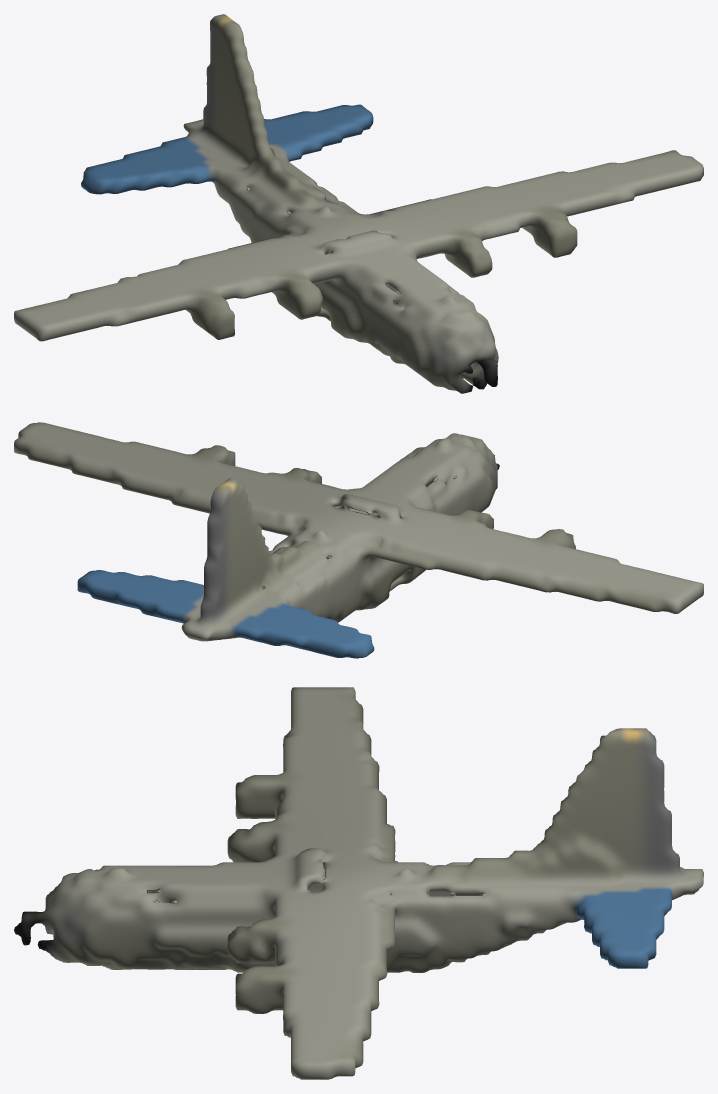
Rendered from paradrop_plane.glb.
The picture shows the model from 3 angles, top to bottom: view 1: azimuth 30°, elevation 25°; view 2: azimuth 150°, elevation 25°; view 3: azimuth 270°, elevation 25°; orthographic projection. The views are drawn at different scales.
Visible parts, largest first — view 1: paradrop_plane; view 2: paradrop_plane; view 3: paradrop_plane.
Part boxes in pixels (left/top/right/bottom): paradrop_plane: left=14, top=14, right=703, bottom=393; paradrop_plane: left=14, top=422, right=703, bottom=658; paradrop_plane: left=14, top=687, right=703, bottom=1079.
Size of the model in its own units: 9.37 by 2.66 by 7.18.
